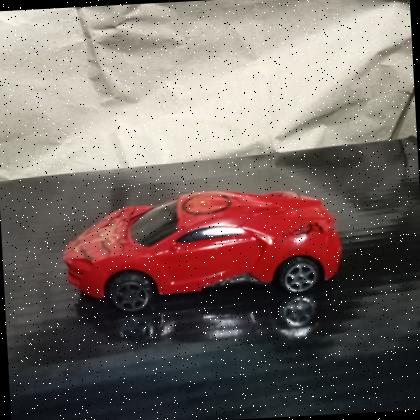Car: (55, 177, 348, 318)
